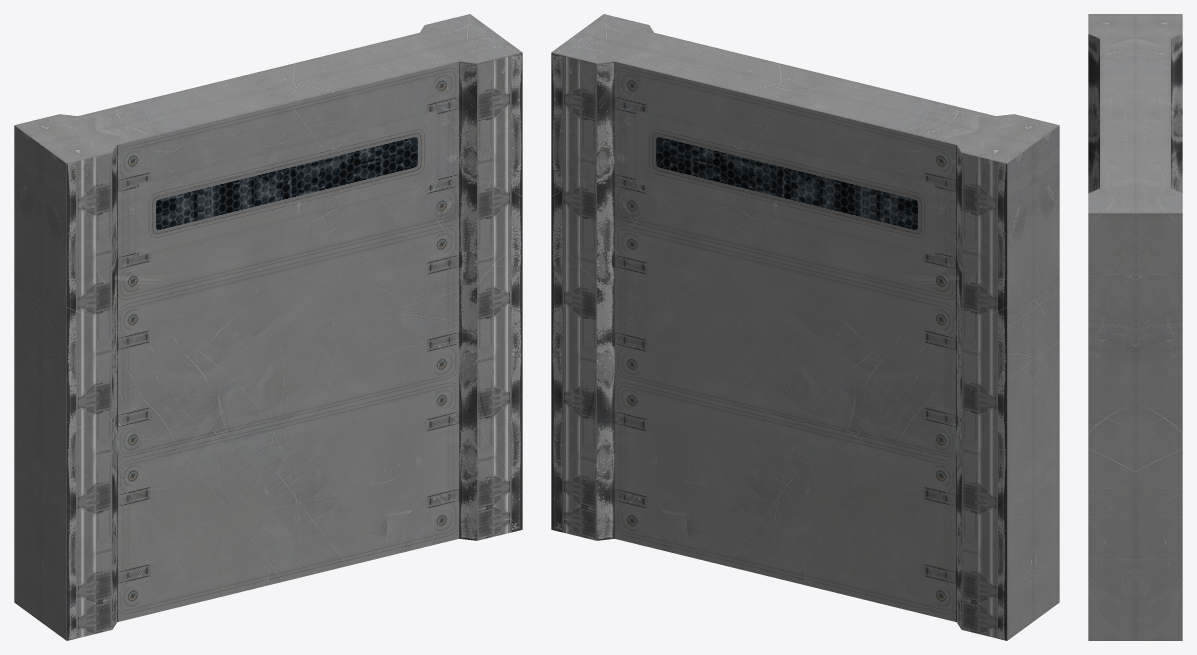
The model's file is SM_WallS01.fbx.
The picture shows the model from 3 angles, left to right: view 1: azimuth 30°, elevation 25°; view 2: azimuth 150°, elevation 25°; view 3: azimuth 270°, elevation 25°; orthographic projection. The views are drawn at different scales.
Parts seen in each view (by area): view 1: SM_WallS01_LOD0; view 2: SM_WallS01_LOD0; view 3: SM_WallS01_LOD0.
Boxes of the visible parts, x1,y1,x2,y2 form: SM_WallS01_LOD0: [14, 14, 522, 640]; SM_WallS01_LOD0: [551, 14, 1059, 640]; SM_WallS01_LOD0: [1088, 14, 1182, 640].
Size of the model in its own units: 400 by 80 by 400.
Materials: 1 (1 with a texture image).
